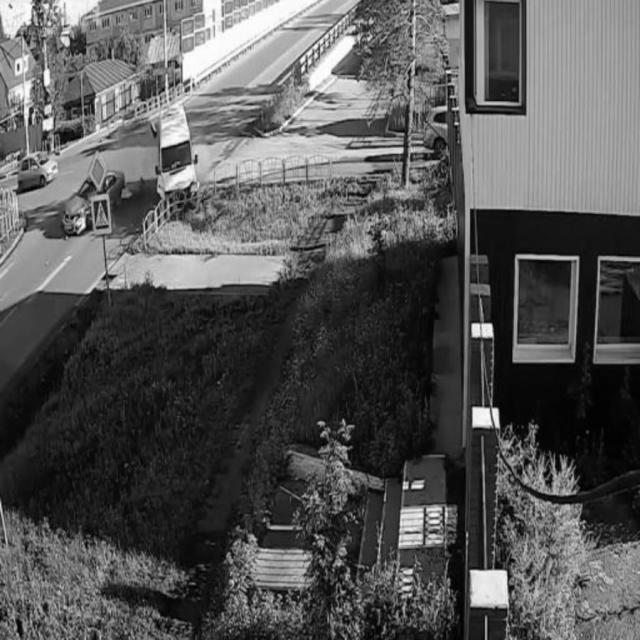vehicle: (151, 101, 199, 213), (66, 172, 130, 229), (14, 149, 62, 187)
